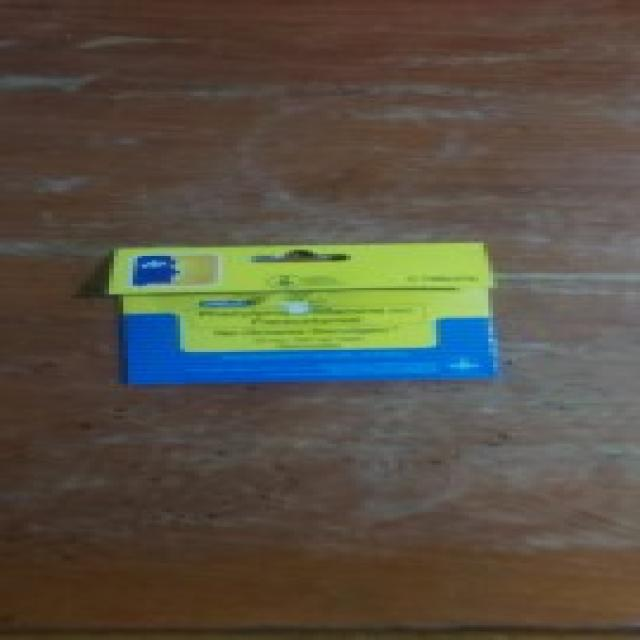Cacat: (104, 241, 510, 389)
